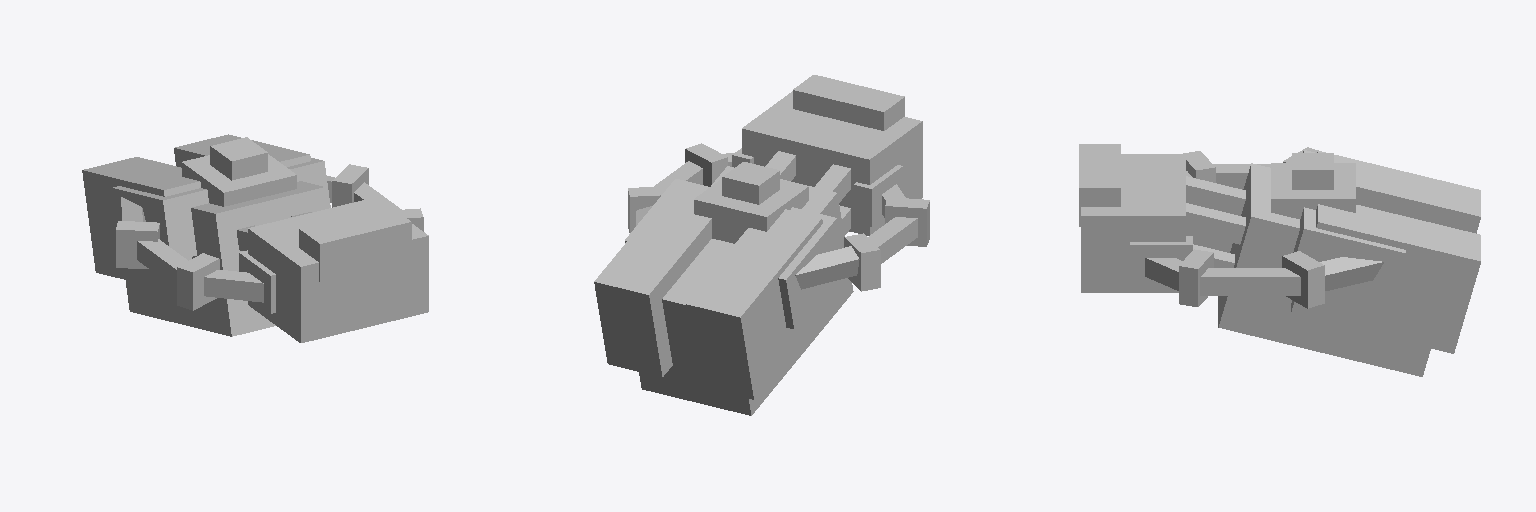
The model's file is powerfist.obj.
3 renders of one model, left to right at view 1: azimuth 30°, elevation 25°; view 2: azimuth 150°, elevation 25°; view 3: azimuth 270°, elevation 25°, orthographic.
Parts seen in each view (by area): view 1: palm, mainarm, armorright, fingerguard, supportbaseright, crystalholder, crystal, supportright4, supportright5, supportright2, armorleft, supportright3 (+3 smaller); view 2: armorright, armorleft, palm, mainarm, fingerguard, crystalholder, supportbaseright, crystal, supportright1, supportrightfront, supportright2, supportright3 (+6 smaller); view 3: armorleft, mainarm, palm, armorright, supportbaseleft, crystalholder, supportleft3, fingerguard, wristtopleft, supportleft2, wristtopright, crystal (+6 smaller).
Part boxes in pixels (x1,y1,x2,y2): palm: (248, 197, 428, 342); mainarm: (126, 181, 327, 336); armorright: (82, 157, 200, 292); fingerguard: (299, 206, 411, 281); supportbaseright: (112, 186, 208, 257); crystalholder: (182, 154, 296, 206); crystal: (210, 137, 267, 180); supportright4: (177, 253, 219, 310); supportright5: (204, 270, 263, 302); supportright2: (116, 221, 159, 268); armorleft: (174, 134, 310, 167); supportright3: (137, 239, 187, 288); armorright: (686, 209, 835, 399); armorleft: (594, 182, 711, 377); palm: (742, 91, 922, 235); mainarm: (639, 166, 853, 415); fingerguard: (793, 75, 904, 130); crystalholder: (694, 179, 808, 243); supportbaseright: (778, 207, 841, 328); crystal: (722, 162, 779, 204); supportright1: (795, 246, 859, 289); supportrightfront: (853, 165, 902, 226); supportright2: (844, 233, 880, 291); supportright3: (868, 217, 917, 263); armorleft: (1291, 204, 1480, 353); mainarm: (1218, 163, 1430, 376); palm: (1081, 154, 1185, 292); armorright: (1317, 151, 1480, 233); supportbaseleft: (1293, 207, 1405, 308); crystalholder: (1271, 163, 1355, 218); supportleft3: (1200, 268, 1300, 295); fingerguard: (1079, 144, 1120, 226); wristtopleft: (1186, 203, 1245, 244); supportleft2: (1282, 251, 1324, 308); wristtopright: (1186, 176, 1245, 215); crystal: (1292, 153, 1333, 189).
Bounding box in the file's own units: 0.8635 × 0.6166 × 1.19.